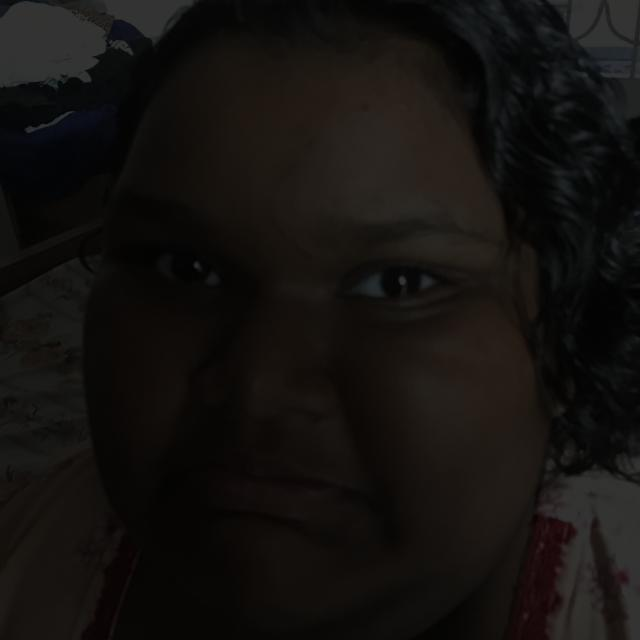Disgust: (74, 100, 536, 637)
